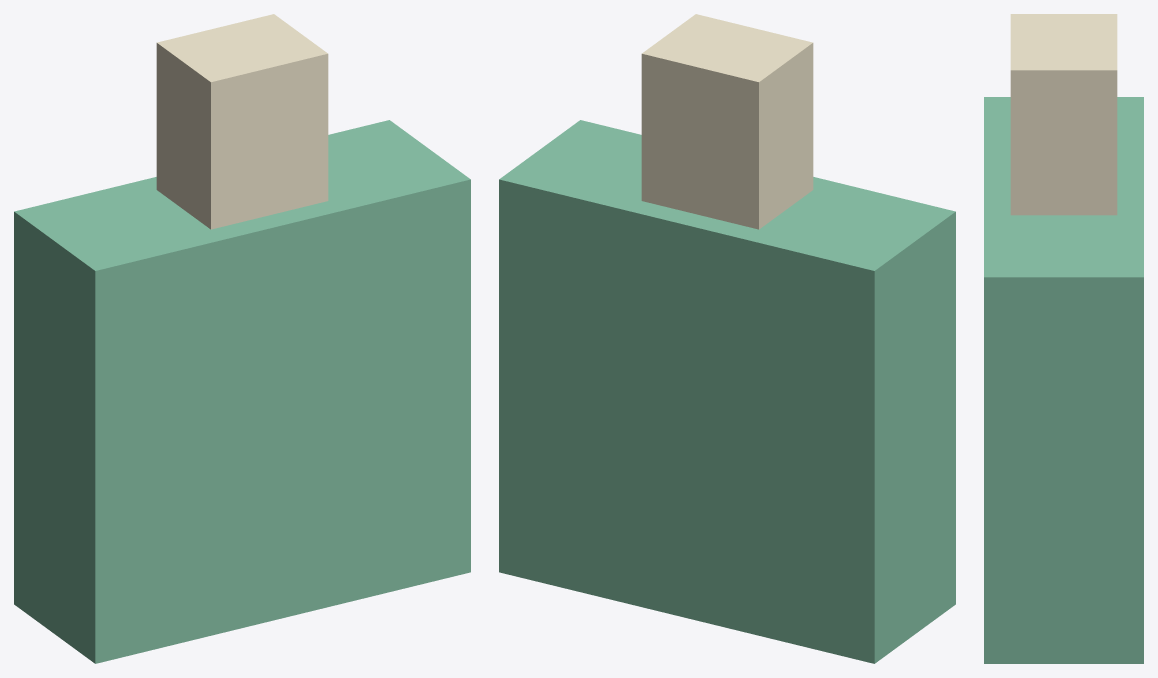
Rendered from food.gltf.
The picture shows the model from 3 angles, left to right: view 1: azimuth 30°, elevation 25°; view 2: azimuth 150°, elevation 25°; view 3: azimuth 270°, elevation 25°; orthographic projection.
Size of the model in its own units: 0.8 by 1.1 by 0.3.
